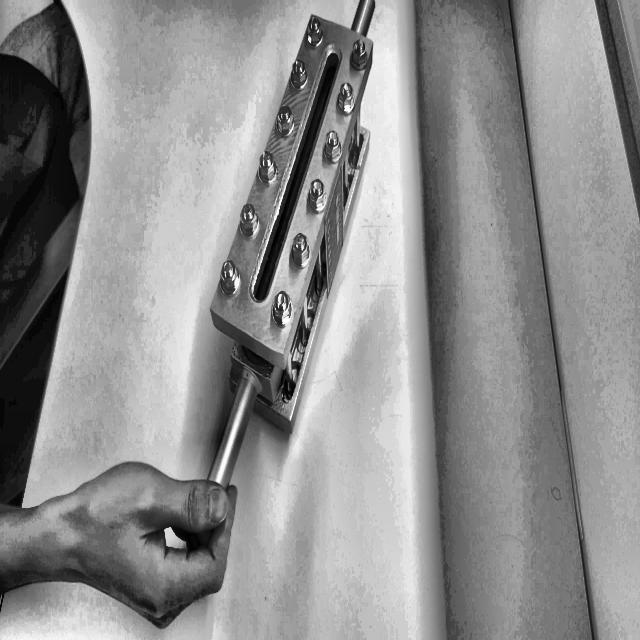ShuiWeiQi_12: (196, 0, 390, 477)
